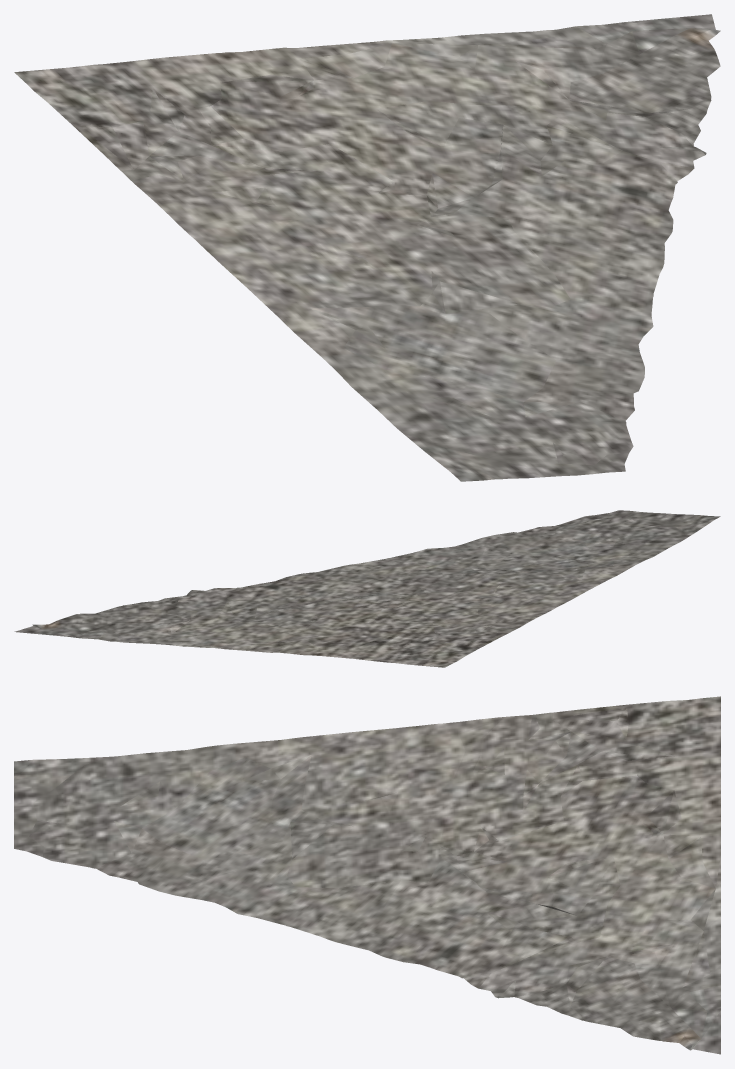
3 views of the same model, one above another, from view 1: azimuth 30°, elevation 25°; view 2: azimuth 150°, elevation 25°; view 3: azimuth 270°, elevation 25° (orthographic). The views are drawn at different scales.
Bounding box in the file's own units: 0.7547 × 0.1161 × 0.8374.
2 materials, 2 textured.
